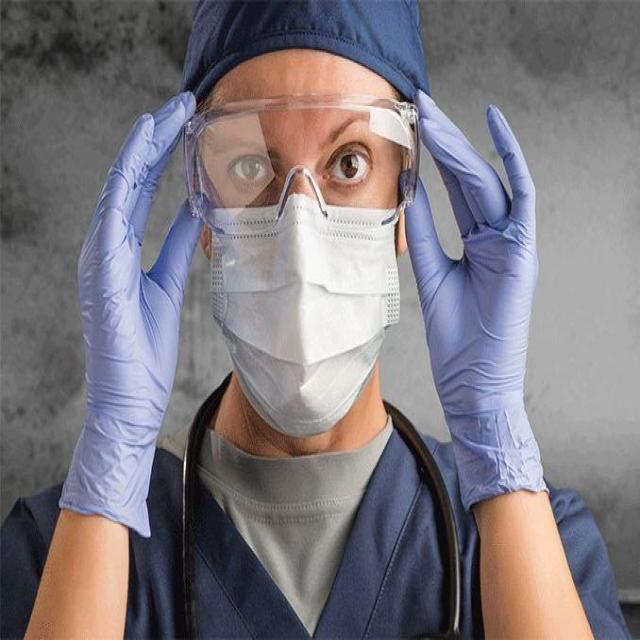Gloves: (56, 76, 206, 544), (400, 82, 553, 508)
Goggles: (181, 99, 422, 227)
Mask: (205, 202, 402, 435)
